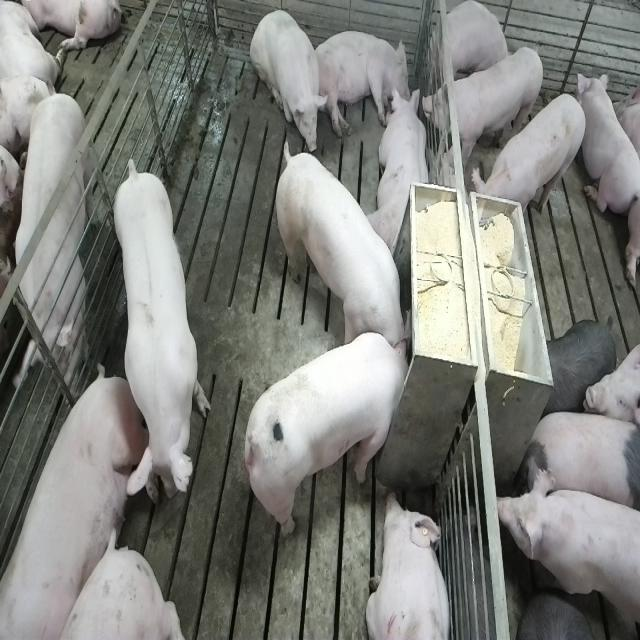Feeding: (248, 331, 420, 540), (274, 136, 409, 360)
Lateral_lying: (3, 361, 160, 636), (312, 29, 412, 137)
Sitting: (250, 8, 329, 156)
Standing: (109, 155, 209, 510), (0, 84, 93, 412), (496, 461, 638, 640), (473, 92, 588, 236), (422, 44, 544, 166), (523, 404, 637, 515), (540, 317, 619, 422)
Sternal_lying: (368, 491, 454, 640), (370, 85, 432, 260), (579, 72, 638, 222), (436, 2, 513, 87)
